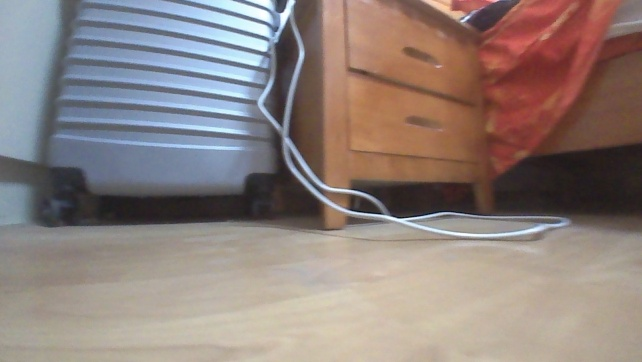cabinet: (273, 0, 493, 232)
wire: (258, 10, 571, 238)
